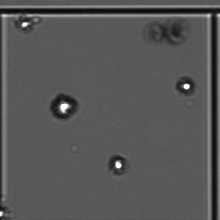Dead Cell: (159, 20, 190, 45)
Living Cell: (47, 89, 78, 126), (174, 71, 199, 99), (109, 154, 131, 176), (17, 16, 35, 34)
